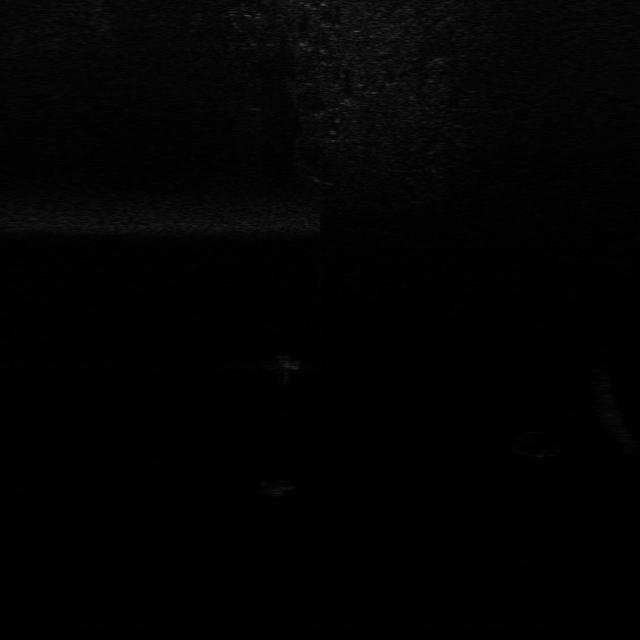cube: (256, 475, 300, 500)
square cage: (264, 349, 306, 375)
tyre: (509, 426, 568, 460)
